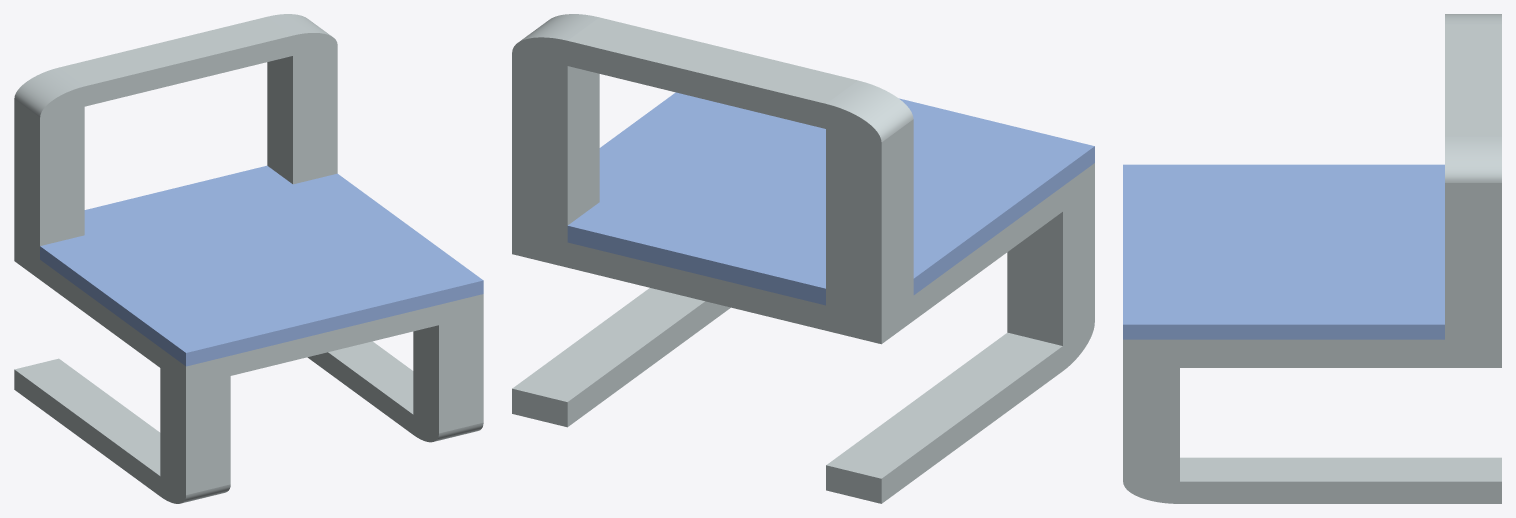
Rendered from kn-chair-modern-frame-cushion.glb.
3 renders of one model, left to right at view 1: azimuth 30°, elevation 25°; view 2: azimuth 150°, elevation 25°; view 3: azimuth 270°, elevation 25°, orthographic. The views are drawn at different scales.
Parts seen in each view (by area): view 1: chairModernFrameCushion(Clone); view 2: chairModernFrameCushion(Clone); view 3: chairModernFrameCushion(Clone).
Part boxes in pixels (x1,y1,x2,y2): chairModernFrameCushion(Clone): (14,14,483,503); chairModernFrameCushion(Clone): (512,14,1094,503); chairModernFrameCushion(Clone): (1123,14,1501,503).
Bounding box in the file's own units: 1 × 1 × 1.
